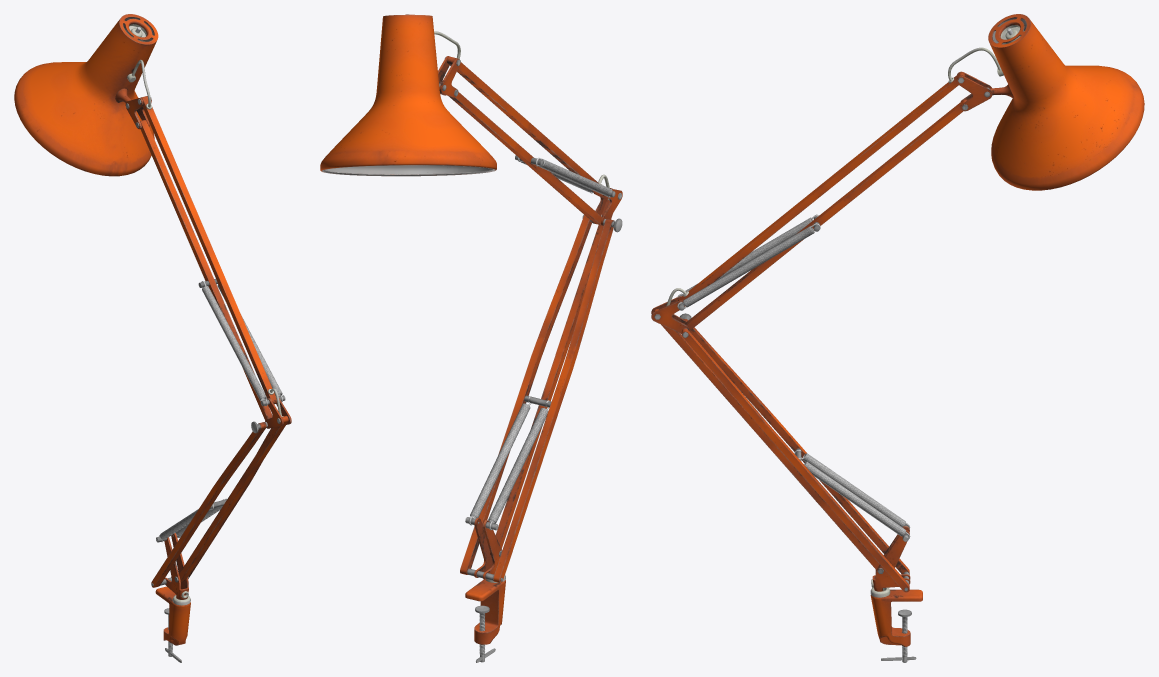
Rendered from desk_lamp_arm_01.glb.
3 views of the same model, side by side, from view 1: azimuth 30°, elevation 25°; view 2: azimuth 150°, elevation 25°; view 3: azimuth 270°, elevation 25° (orthographic). The views are drawn at different scales.
Parts seen in each view (by area): view 1: desk_lamp_arm_01; view 2: desk_lamp_arm_01; view 3: desk_lamp_arm_01.
Boxes of the visible parts, <box> form: desk_lamp_arm_01: <box>14,14,291,662</box>; desk_lamp_arm_01: <box>320,14,622,662</box>; desk_lamp_arm_01: <box>651,14,1144,662</box>.
Bounding box in the file's own units: 0.2017 × 0.8926 × 0.6139.
Materials: 5 (5 with a texture image).
